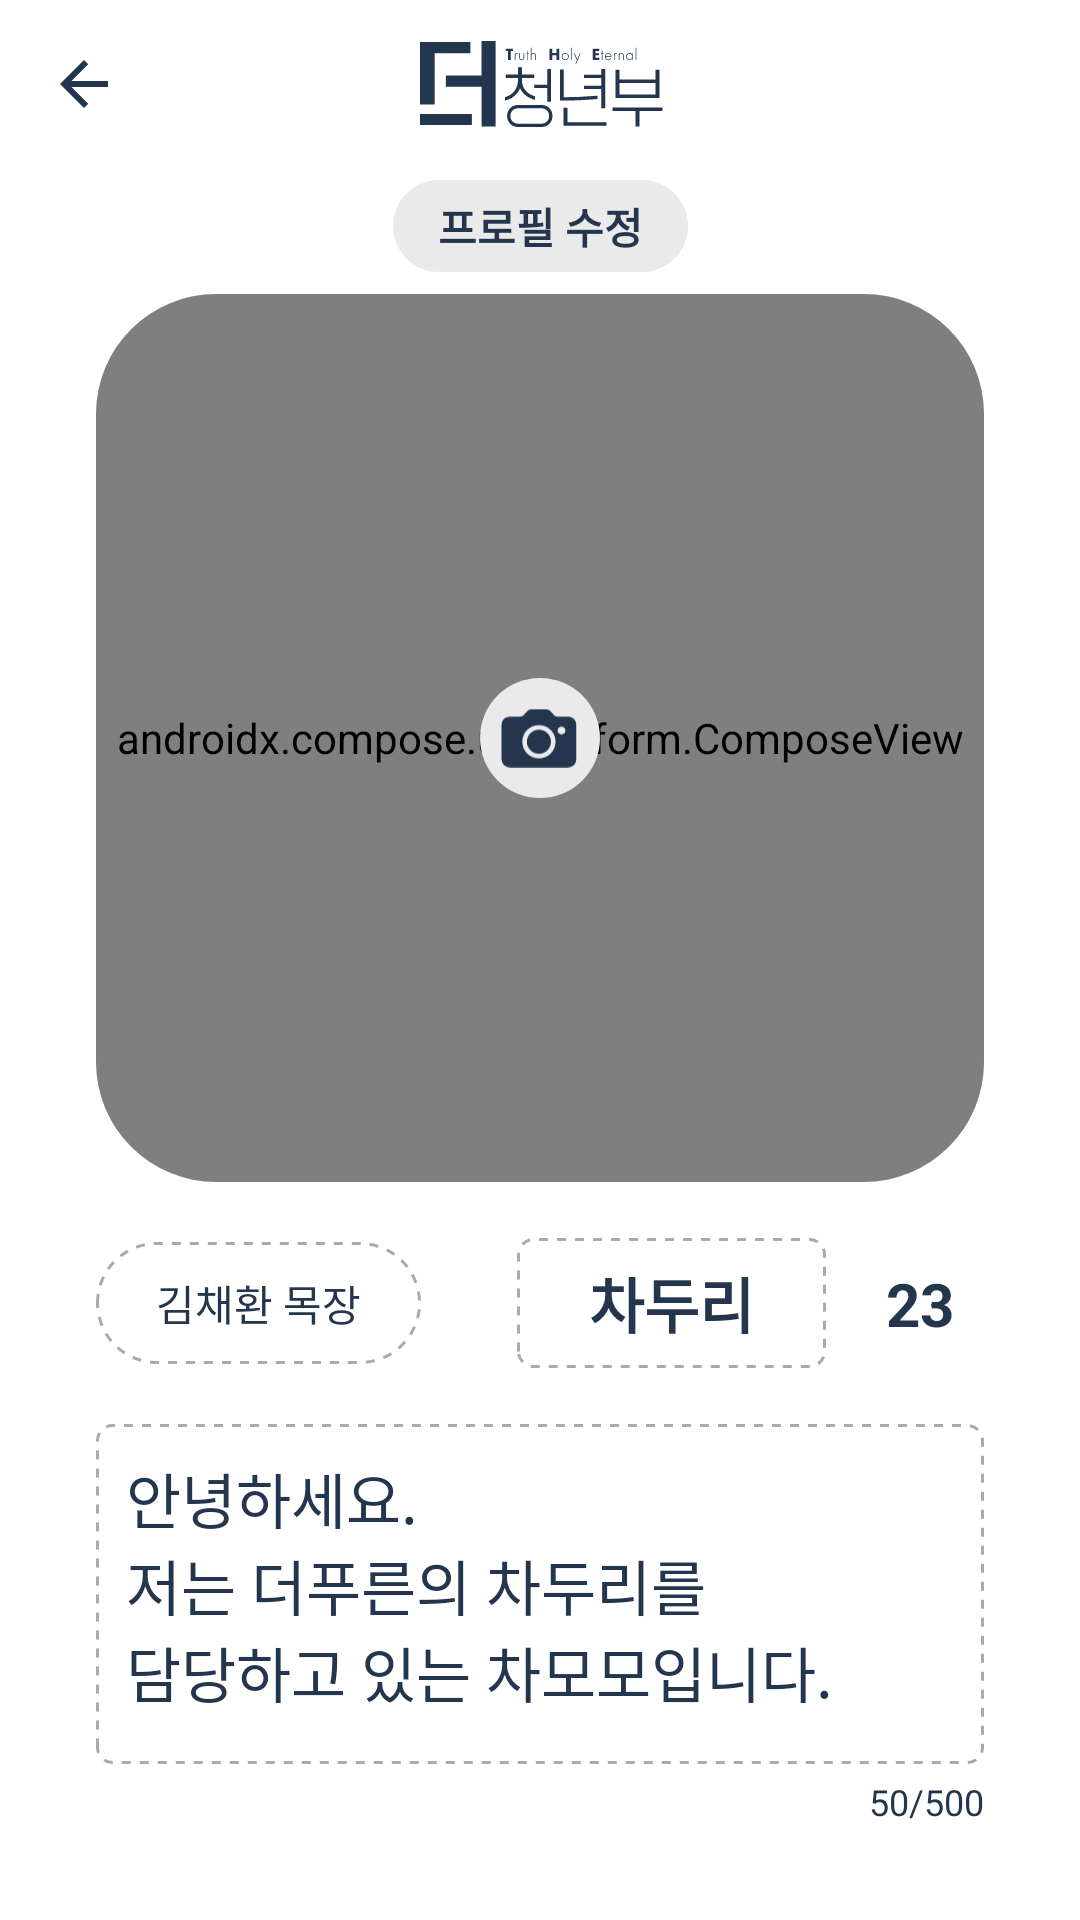

Icons on this 1080w x 1920h Android screen, each with the point to tap as [x,y]:
camera: [540,738]
